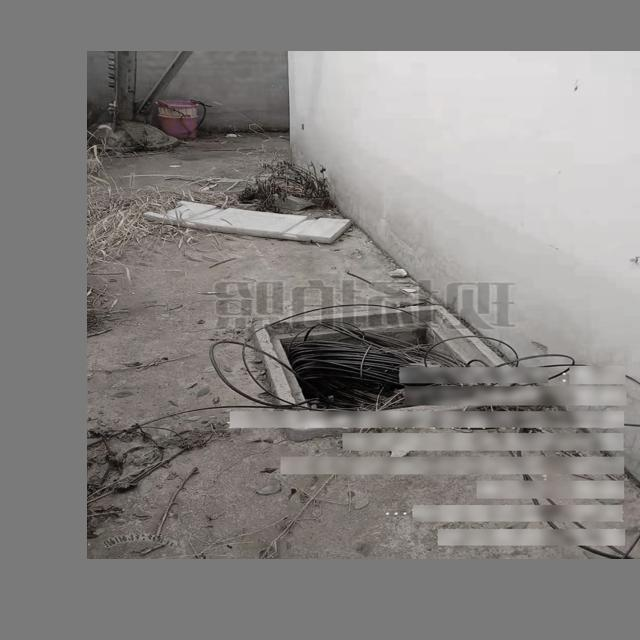lose: (252, 305, 545, 442)
